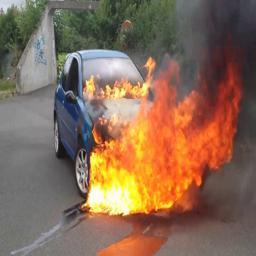fire: (84, 58, 241, 216), (84, 58, 157, 100)
